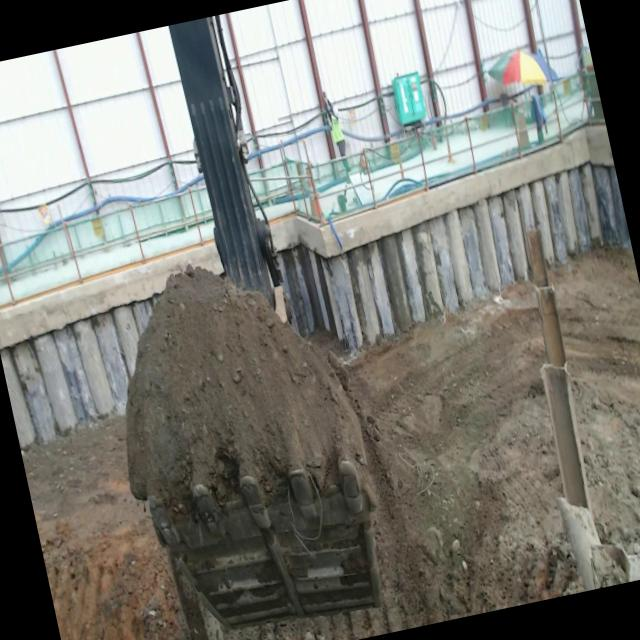white-sand: (223, 284, 583, 640), (126, 267, 364, 515), (22, 416, 189, 640), (549, 249, 640, 551)
